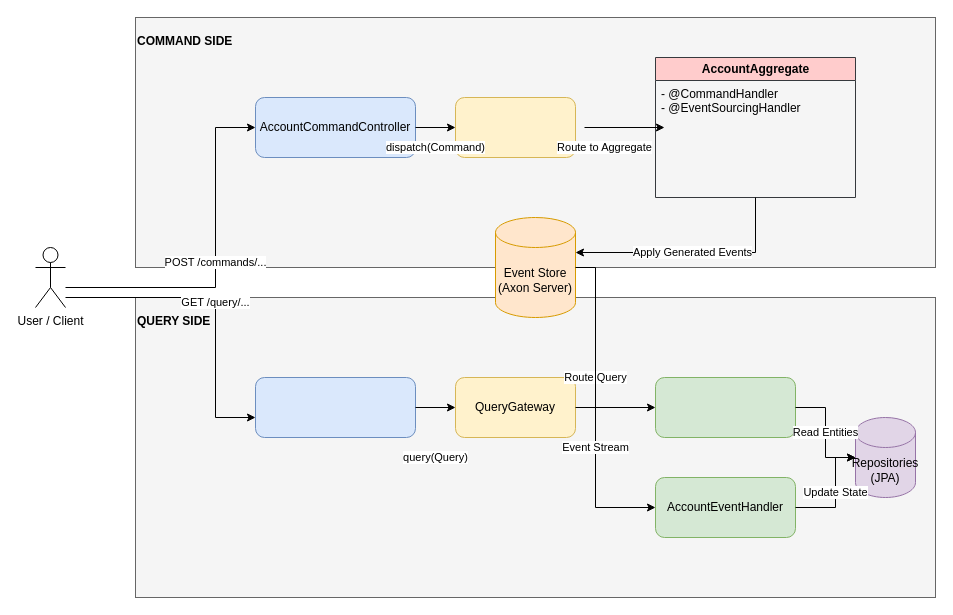
Some shapes in this 953 by 615 pixel diagram are drawn without their labels. Each missing label, with the centre of its shape:
"AccountQueryController" belongs at (335,407).
"AccountQueryHandler" belongs at (725,407).
"CommandGateway" belongs at (515,127).
